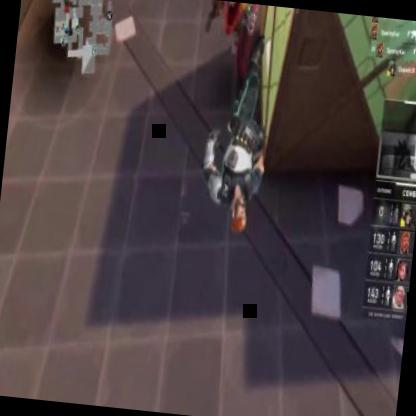enemy: (196, 0, 256, 109)
